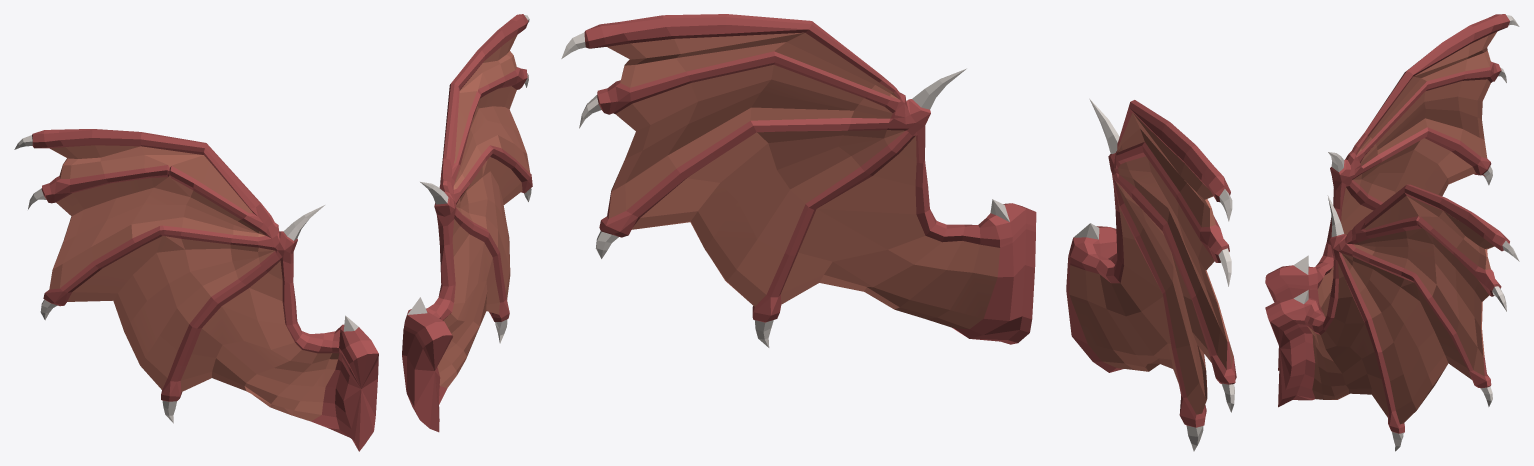
The model's file is backpackDemon.fbx.
3 renders of one model, left to right at view 1: azimuth 30°, elevation 25°; view 2: azimuth 150°, elevation 25°; view 3: azimuth 270°, elevation 25°, orthographic. The views are drawn at different scales.
Visible parts, largest first — view 1: backpackDemon; view 2: backpackDemon; view 3: backpackDemon.
Part boxes in pixels (left/top/right/bottom): backpackDemon: left=14, top=14, right=532, bottom=451; backpackDemon: left=561, top=14, right=1236, bottom=451; backpackDemon: left=1265, top=14, right=1519, bottom=451.
Size of the model in its own units: 2.07 by 1.11 by 0.9485.
